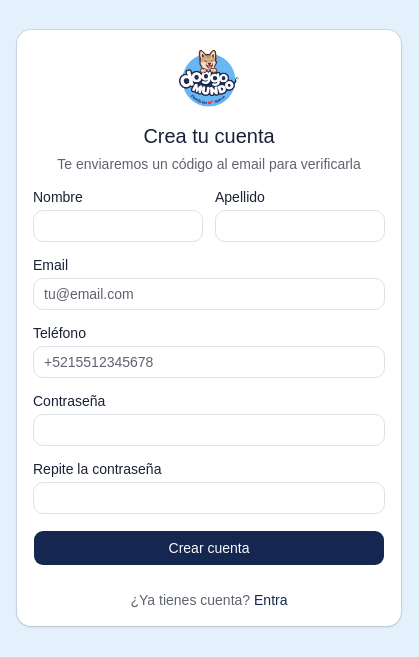
Test: RegisterPage — client validation › shows a 'contraseñas no coinciden' error when they mismatch
Step 1. Type "Vale" into the field labelled "Nombre" → (118, 226), box [33, 210, 203, 242]
Step 2. Type "Pérez" into the field labelled "Apellido" → (300, 226), box [215, 210, 385, 242]
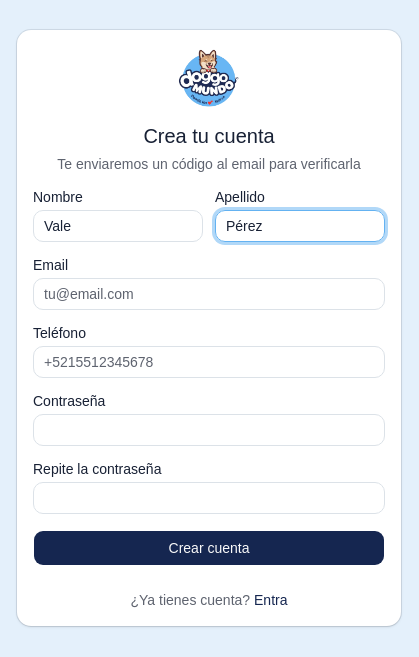
Step 3. Type "v@example.com" into the field labelled "Email" → (209, 294), box [33, 278, 385, 310]
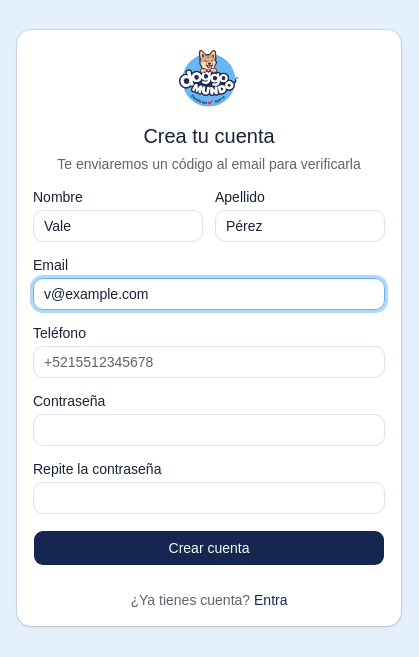
Step 4. Type "+525512345678" into the field labelled "Teléfono" → (209, 362), box [33, 346, 385, 378]
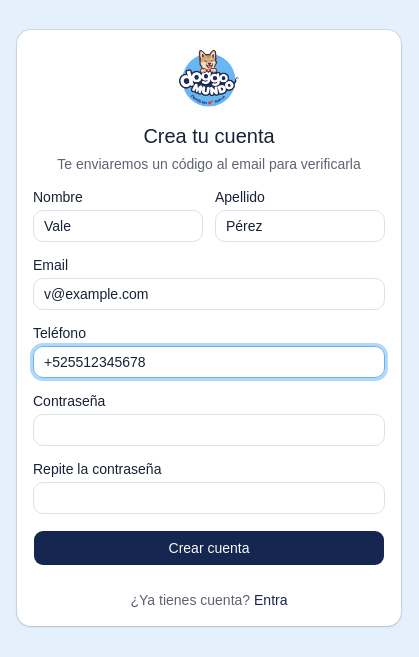
Step 5. Type "abcd1234" into the password field labelled "Contraseña" → (209, 430), box [33, 414, 385, 446]
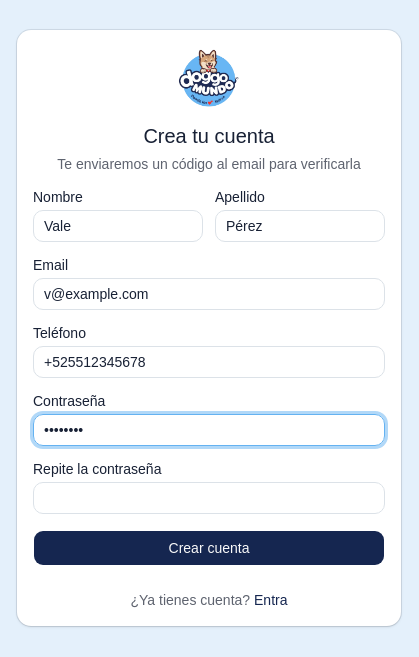
Step 6. Type "diferente" into the password field labelled "Repite la contraseña" → (209, 498), box [33, 482, 385, 514]
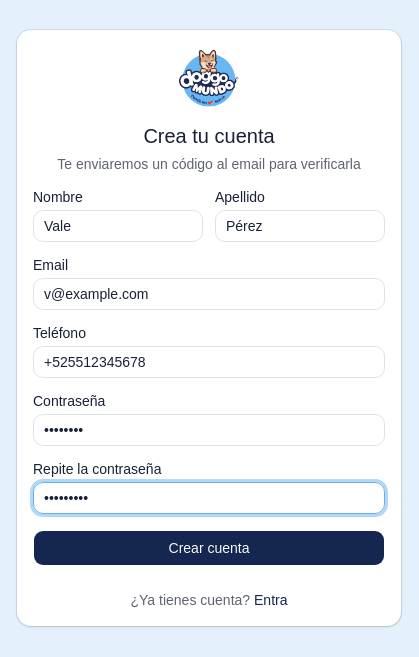
Step 7. Click the button "Crear cuenta" → (209, 548), box [33, 530, 385, 566]
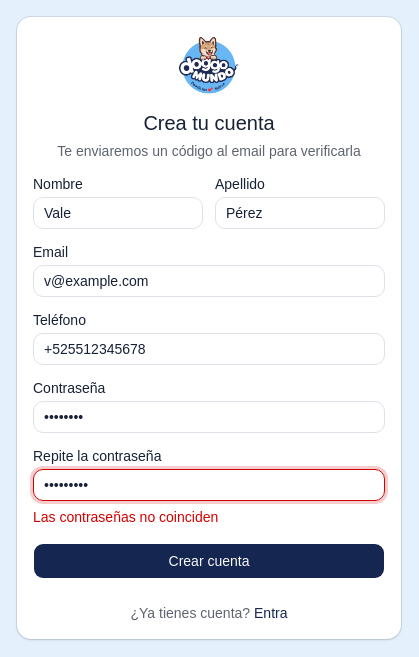
Expected: the text "Las contraseñas no coinciden" is shown, [33, 509, 218, 525]
